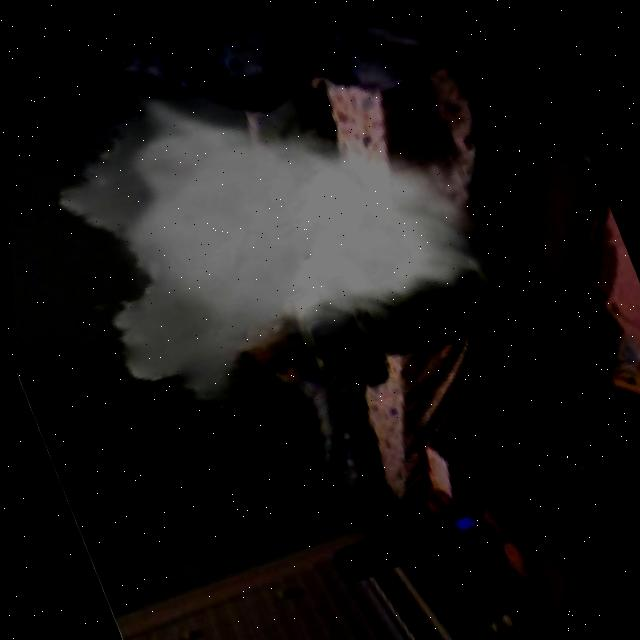Smoke: (73, 111, 387, 386)
